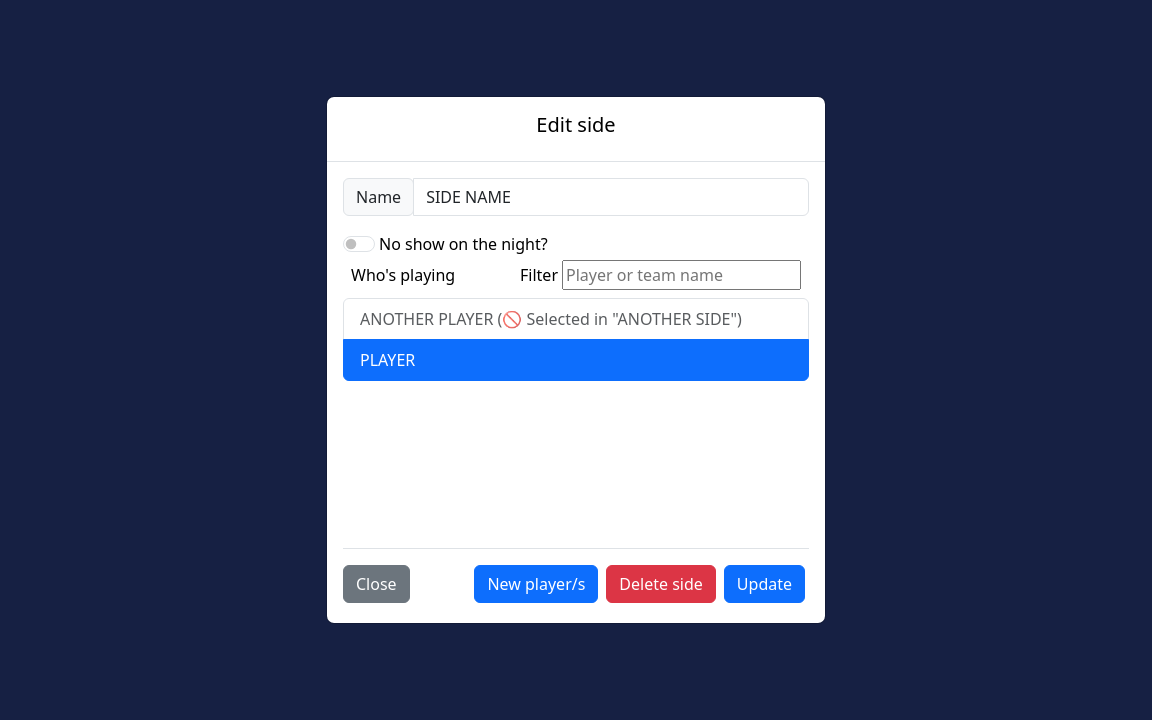
Scenario: EditSide › interactivity › can open add player dialog
The image size is (1152, 720).
Click the button "New player/s": (536, 584) [474,565,598,603]
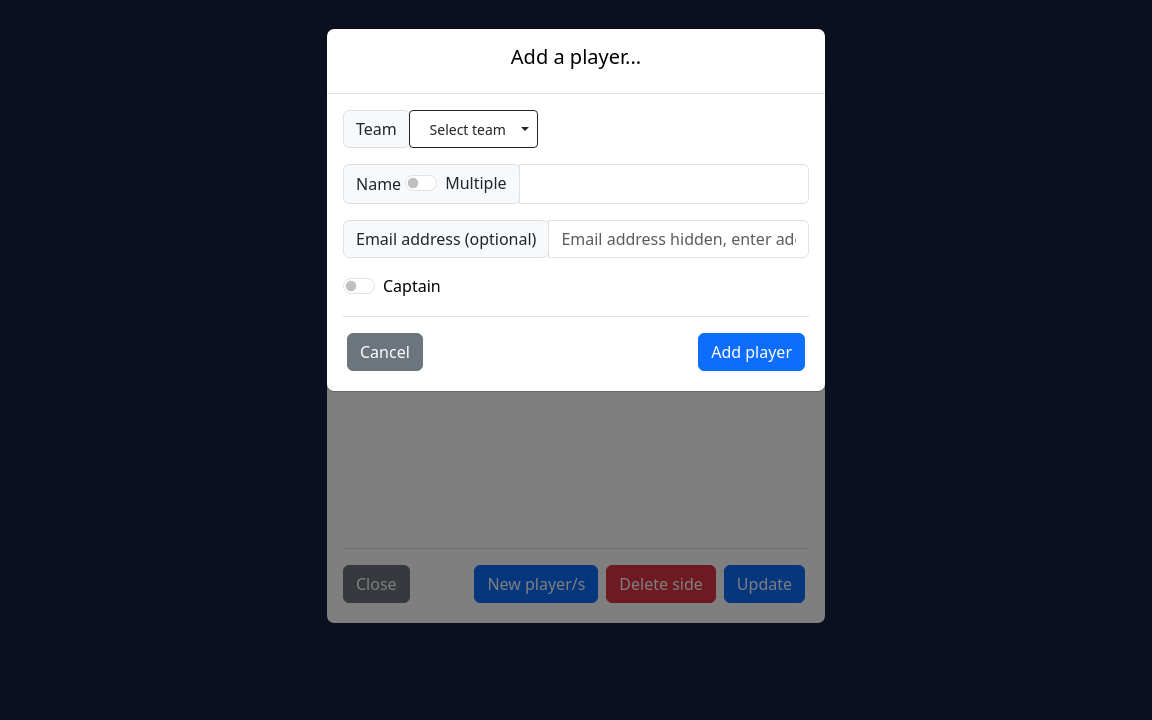
Result: the heading "Add a player..." is shown at [511,45,641,69]
Result: the element that starts with "Add a player..." is shown at [326,28,826,392]
